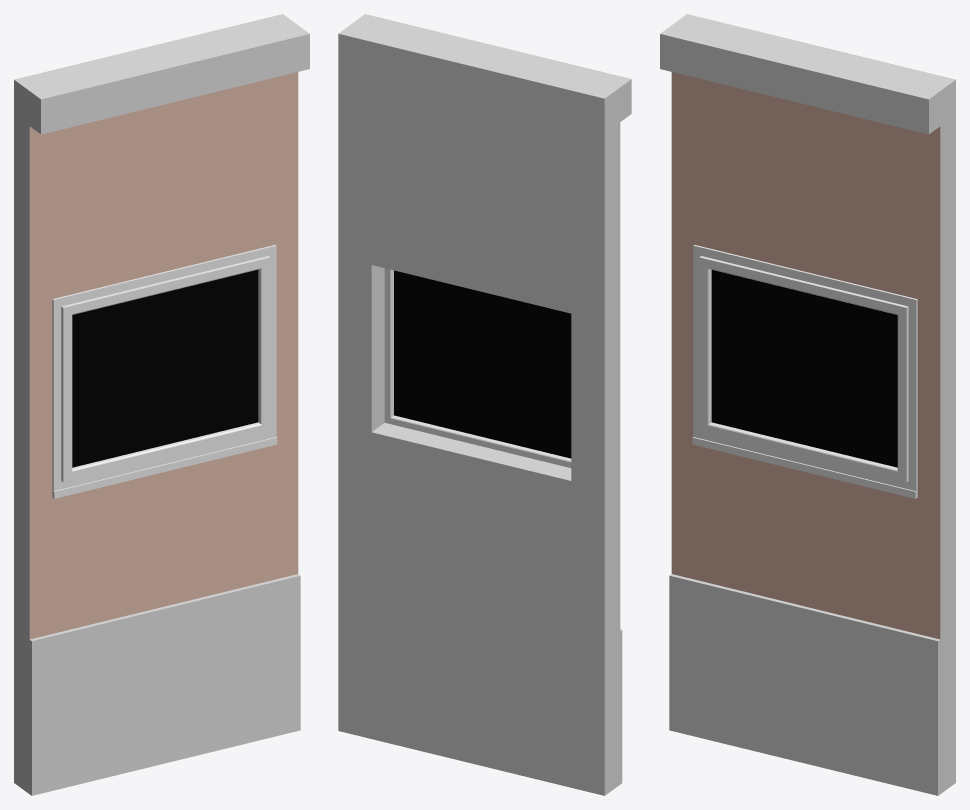
The model's file is Entrance_WallWindow.fbx.
The picture shows the model from 3 angles, left to right: view 1: azimuth 30°, elevation 25°; view 2: azimuth 150°, elevation 25°; view 3: azimuth 330°, elevation 25°; orthographic projection.
Visible parts, largest first — view 1: Entrance_WallWindow; view 2: Entrance_WallWindow; view 3: Entrance_WallWindow.
Boxes of the visible parts, x1=… form: Entrance_WallWindow: x1=14, y1=14, x2=309, y2=795; Entrance_WallWindow: x1=338, y1=14, x2=631, y2=795; Entrance_WallWindow: x1=660, y1=14, x2=955, y2=795.
Size of the model in its own units: 2 by 5 by 0.35.
